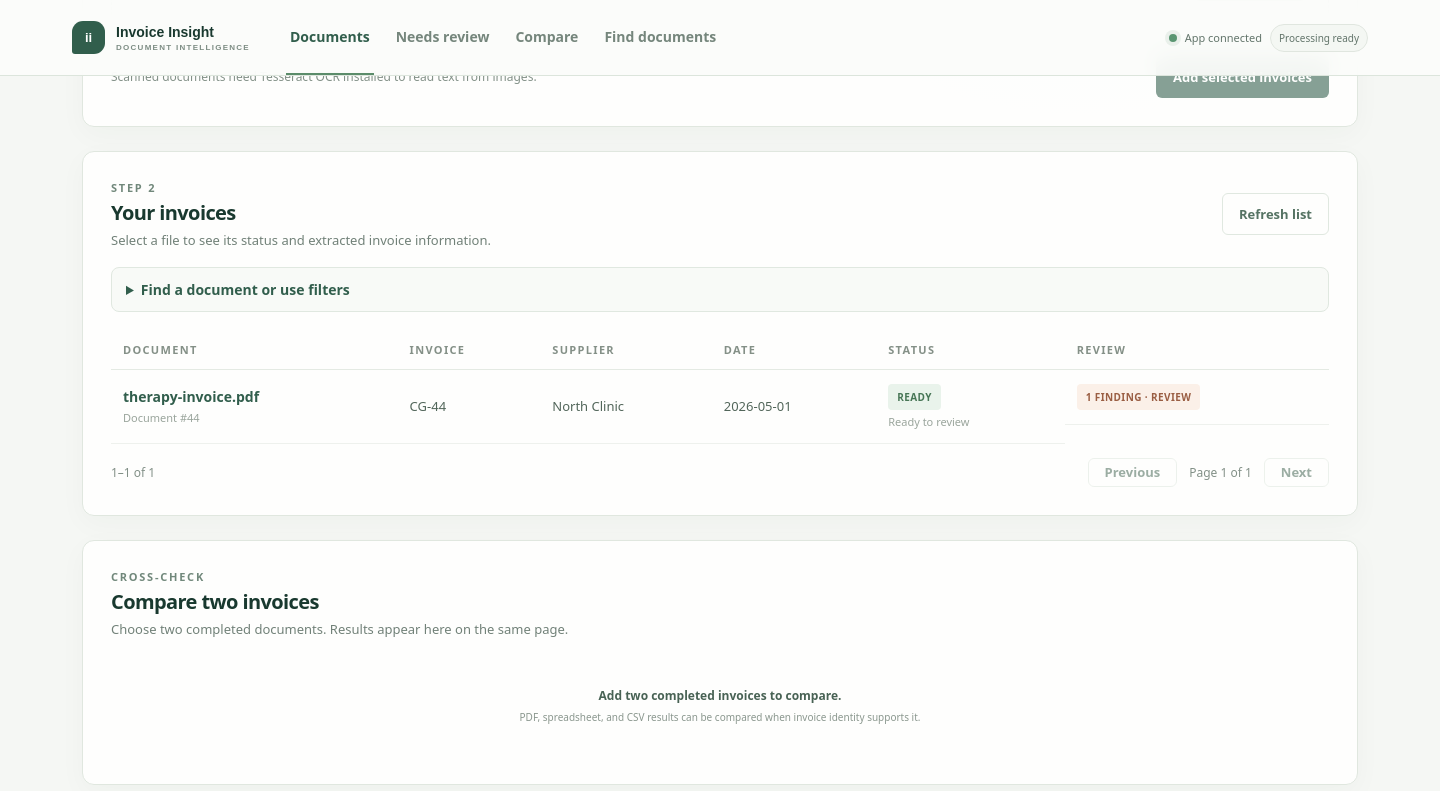
Test: document workspace › asks for confirmation and removes a document through the API
(page scrolled)
Step 1. Click the button "therapy-invoice.pdf Document #44" → (191, 406), box top-left (123, 387), bottom-right (259, 425)
(page scrolled)
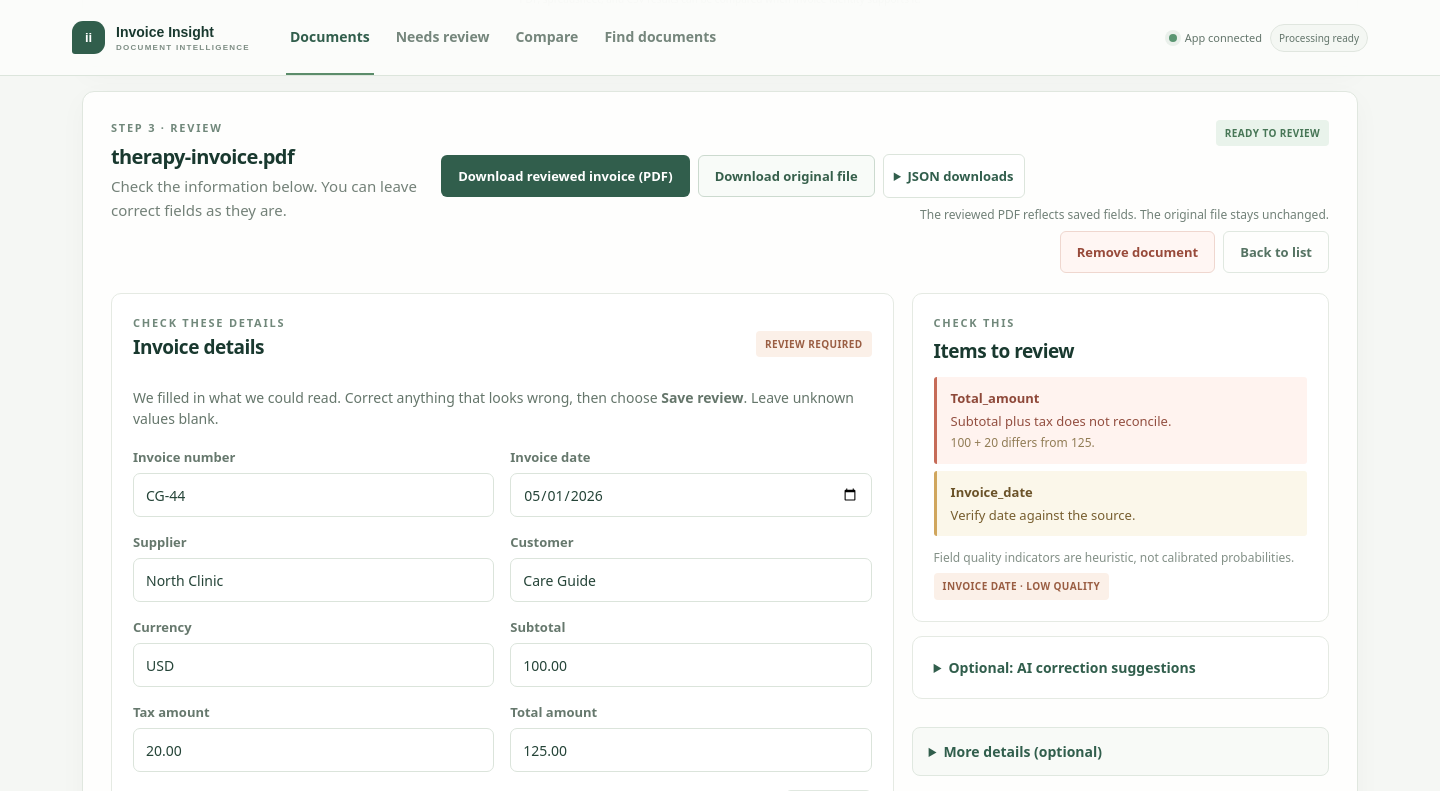
Step 2. Click the button "Remove document" → (1138, 252), box top-left (1060, 231), bottom-right (1215, 273)
(page scrolled)
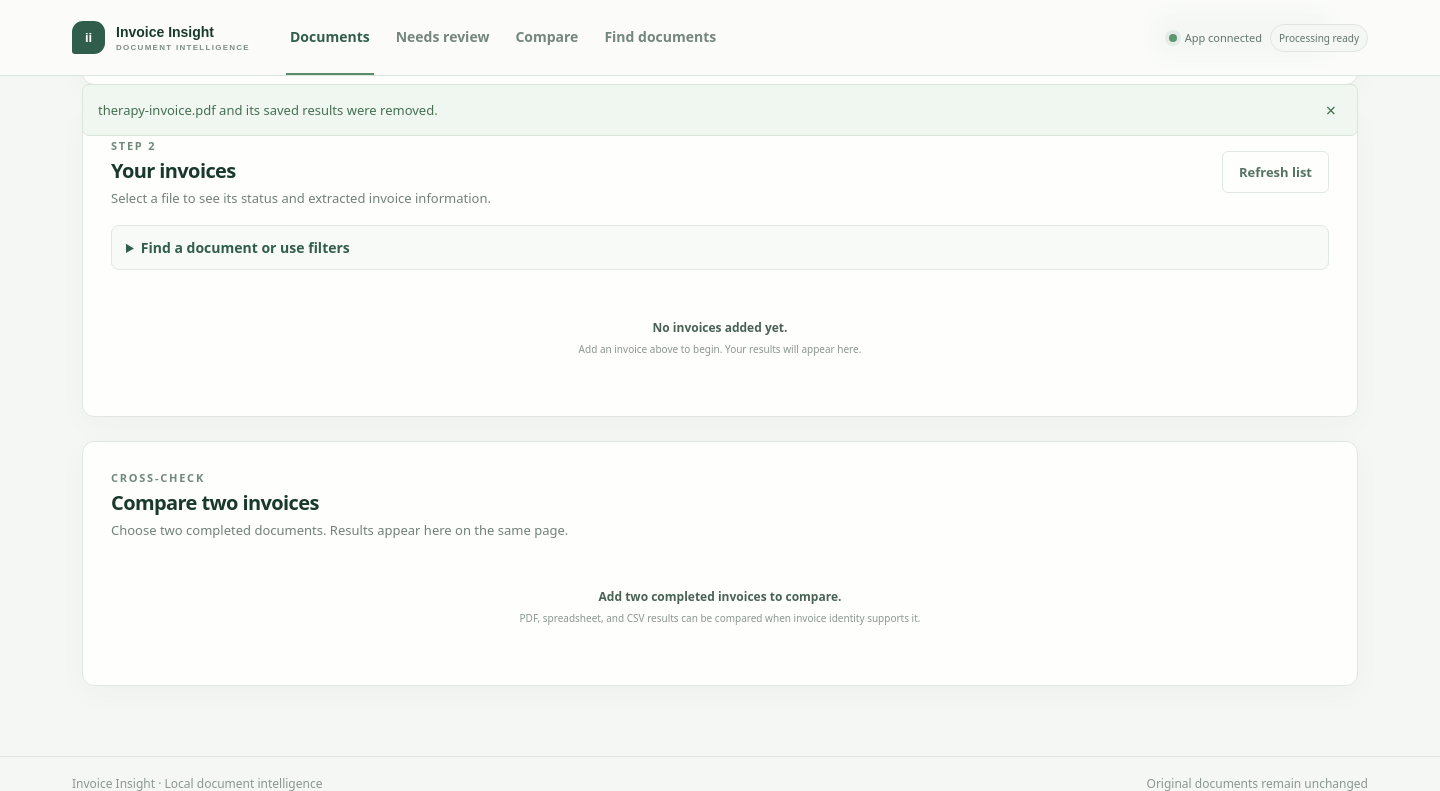
Expected: the text "therapy-invoice.pdf and its saved results were removed." is shown, top-left (98, 101), bottom-right (438, 119)
Expected: the text "No invoices added yet." is shown, top-left (652, 319), bottom-right (787, 336)
